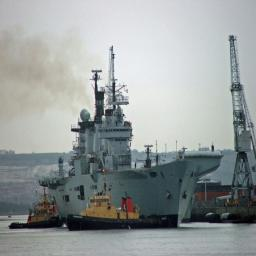Portanaves: (39, 39, 225, 237)
